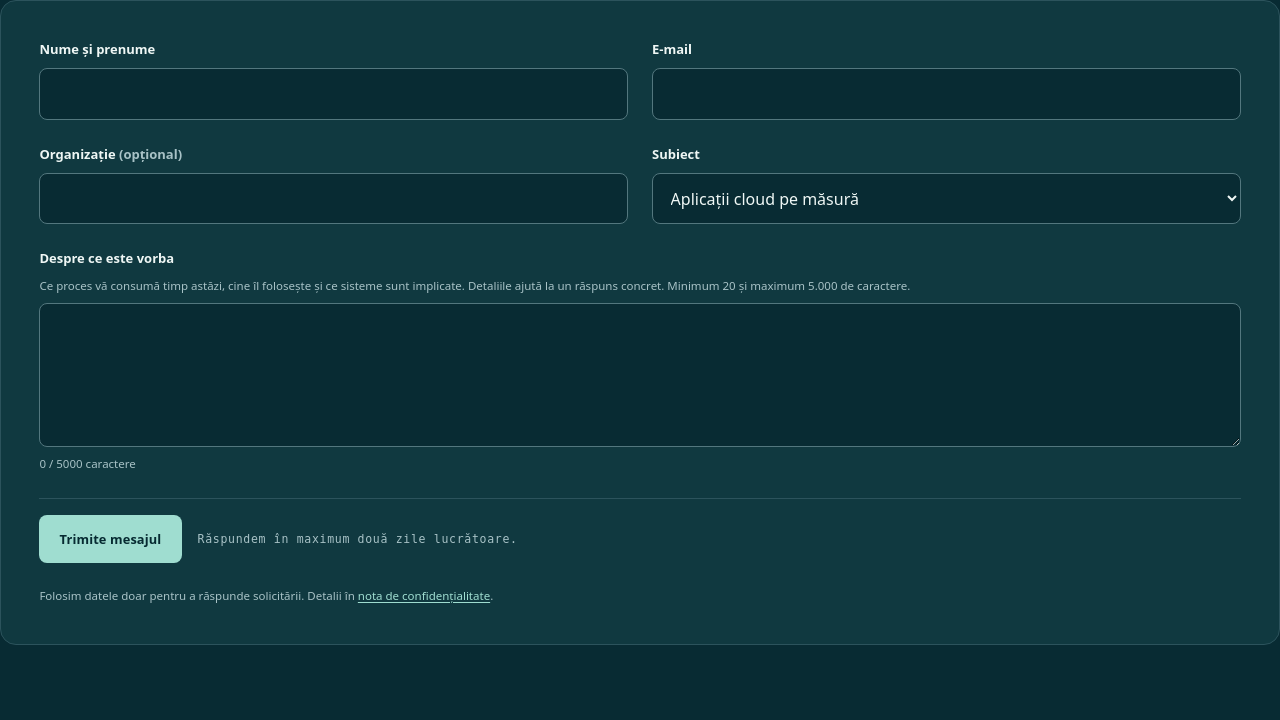
it: <ContactForm /> › trimite datele la endpoint și confirmă doar după un răspuns reușit
In the field labelled "Nume și prenume": (334, 94) top-left (39, 68), bottom-right (628, 120), type "Ana Popescu"
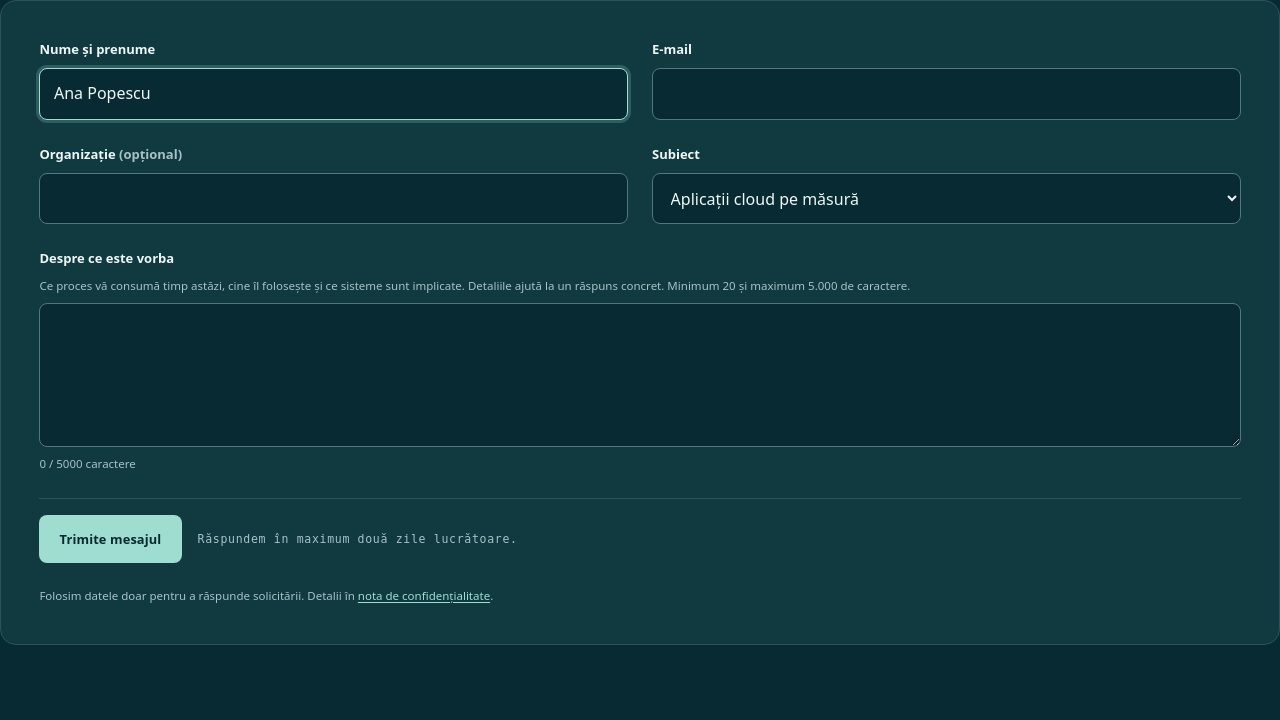
In the field labelled "E-mail": (946, 94) top-left (652, 68), bottom-right (1241, 120), type "ana@exemplu.ro"
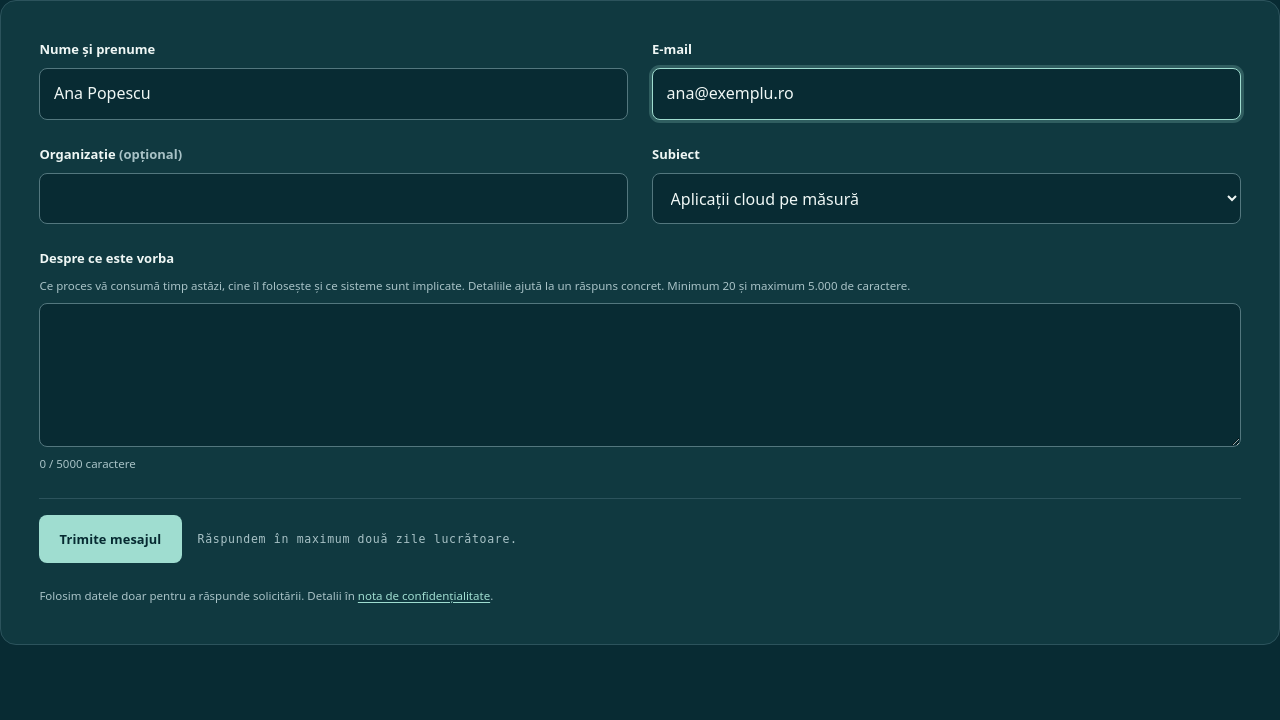
In the text box labelled "Despre ce este vorba": (640, 375) top-left (39, 303), bottom-right (1241, 447), type "Introducem manual facturile primite pe e-mail în programul de contabilitate."
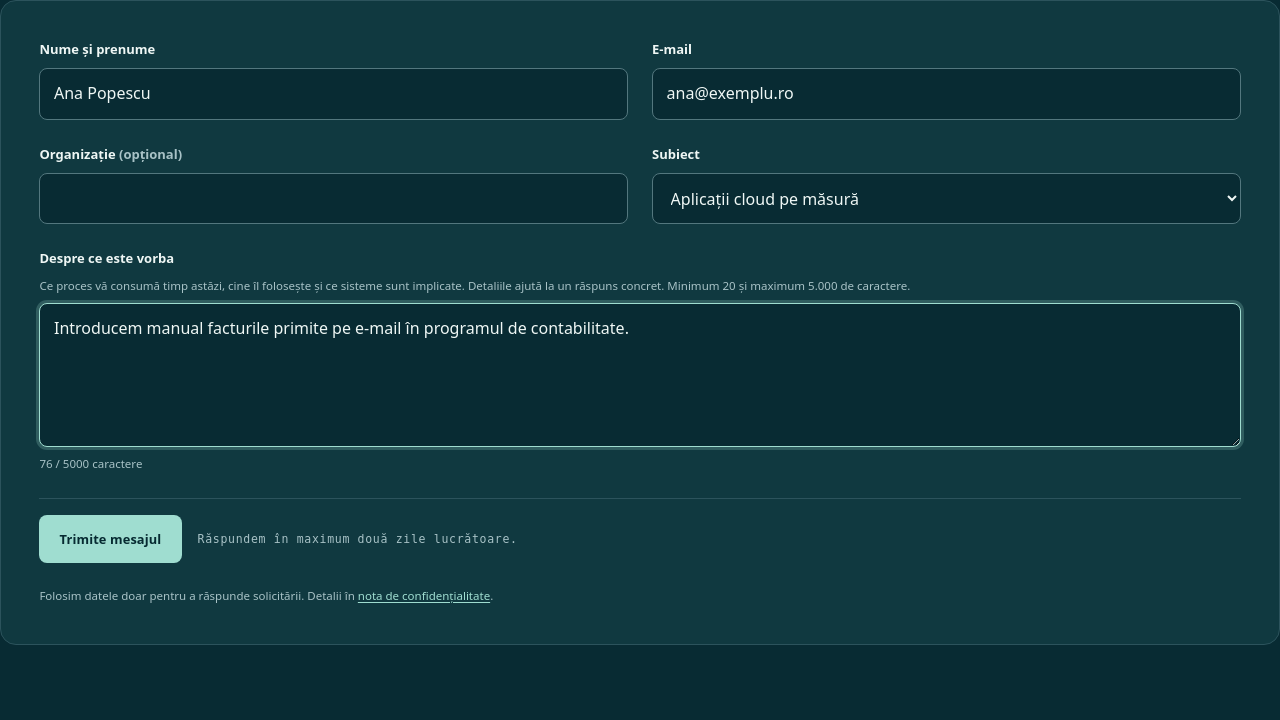
Click the button "Trimite mesajul": (110, 539) top-left (39, 515), bottom-right (182, 563)
(page scrolled)
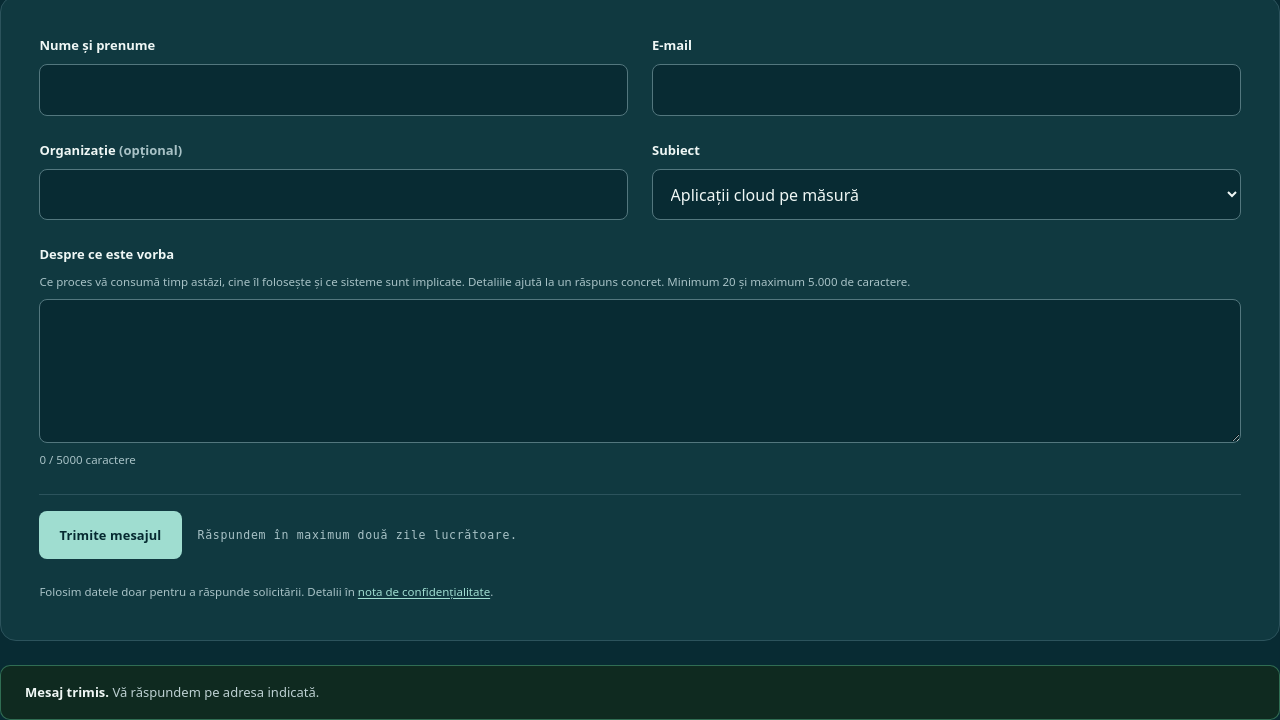
Now the message shows "Mesaj trimis", box top-left (25, 683), bottom-right (109, 701)
